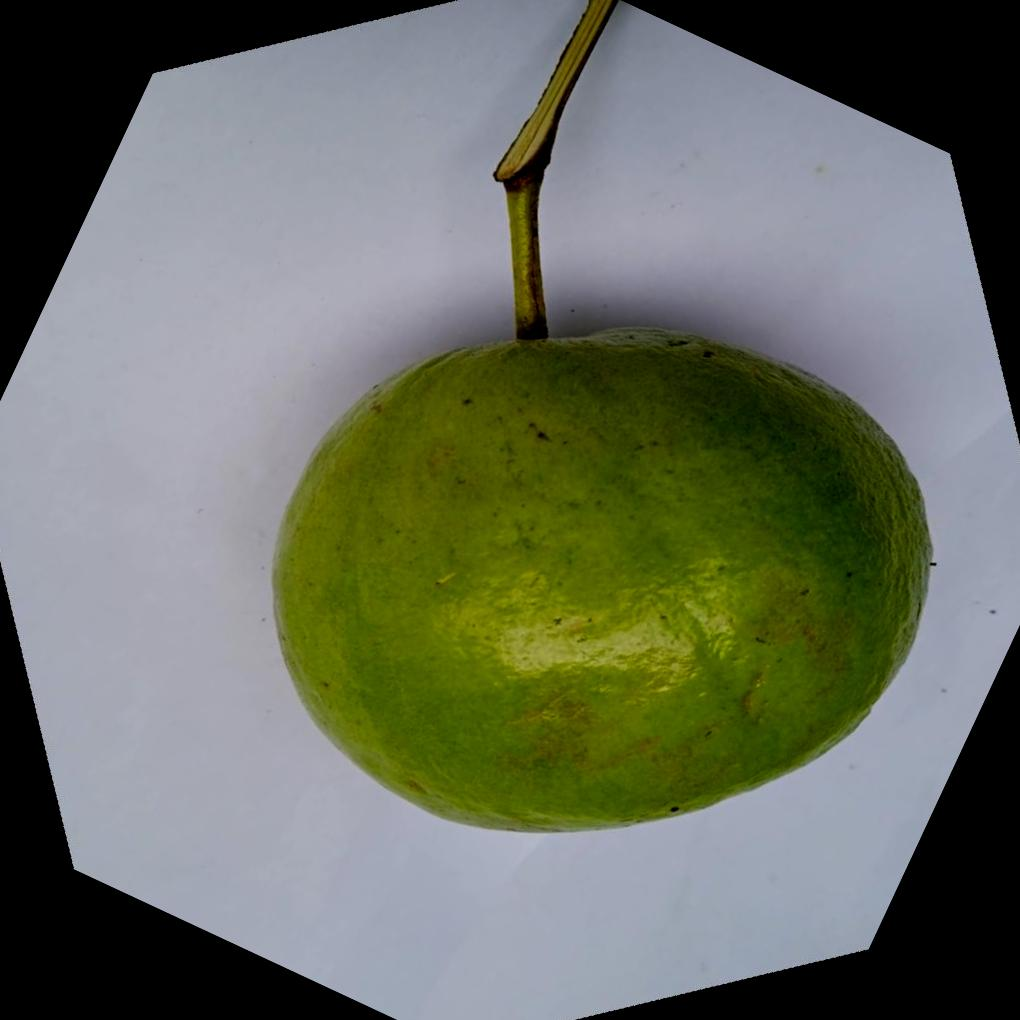FreshGuava: (270, 216, 939, 833)
